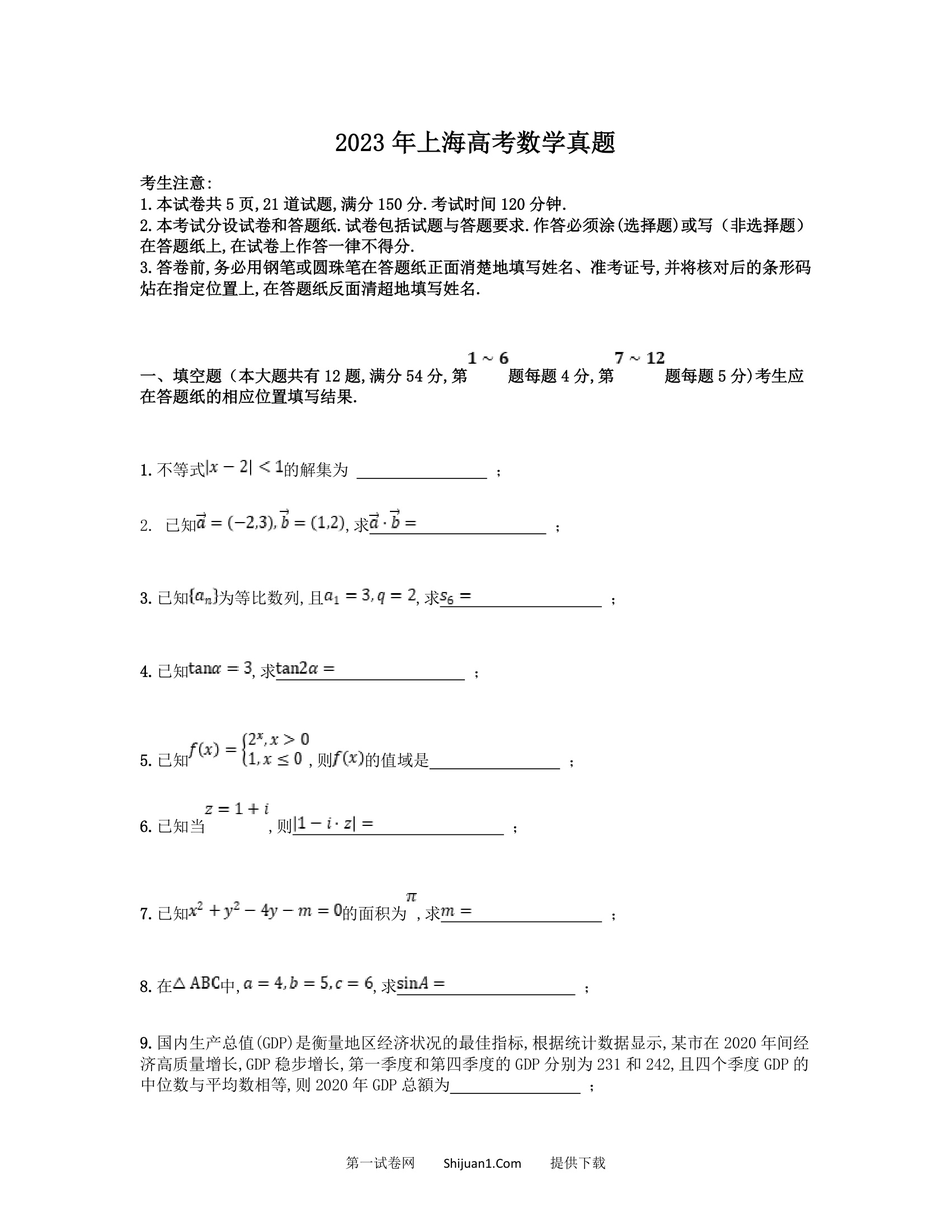question: (135, 1024, 816, 1102), (137, 723, 583, 783), (138, 886, 626, 930), (133, 580, 624, 623), (135, 797, 531, 850), (122, 444, 522, 494), (137, 960, 602, 1002), (124, 503, 570, 543), (137, 653, 491, 691)
